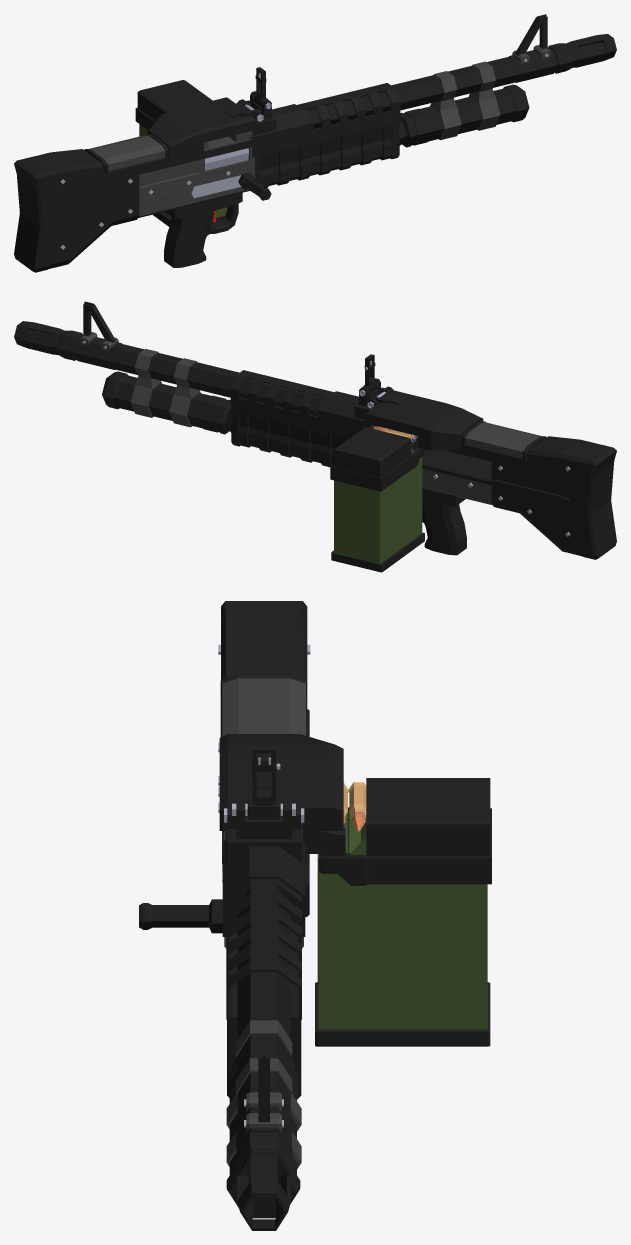
The picture shows the model from 3 angles, top to bottom: view 1: azimuth 30°, elevation 25°; view 2: azimuth 150°, elevation 25°; view 3: azimuth 270°, elevation 25°; orthographic projection. The views are drawn at different scales.
Visible parts, largest first — view 1: Cube, Cylinder.002, Cube.004, Cube.002; view 2: Cube, Cylinder.002, Cube.001, Cube.004, Cube.003, Cube.005; view 3: Cube, Cube.001, Cylinder.002, Cube.004, Cube.003, Cube.005, Cube.002, Cube.008.
Boxes of the visible parts, bbox=[...] form: Cube: bbox=[14, 14, 616, 272]; Cylinder.002: bbox=[84, 97, 263, 177]; Cube.004: bbox=[137, 80, 212, 120]; Cube.002: bbox=[191, 172, 271, 200]; Cube: bbox=[14, 301, 616, 559]; Cylinder.002: bbox=[366, 387, 546, 464]; Cube.001: bbox=[334, 448, 422, 563]; Cube.004: bbox=[332, 427, 411, 477]; Cube.003: bbox=[330, 447, 424, 491]; Cube.005: bbox=[331, 532, 424, 572]; Cube: bbox=[218, 601, 345, 1230]; Cube.001: bbox=[317, 812, 487, 1029]; Cylinder.002: bbox=[219, 674, 343, 830]; Cube.004: bbox=[366, 778, 490, 856]; Cube.003: bbox=[319, 807, 491, 885]; Cube.005: bbox=[315, 982, 490, 1046]; Cube.002: bbox=[139, 899, 222, 933]; Cube.008: bbox=[236, 800, 291, 838].
Size of the model in its own units: 1862 by 527 by 485.
